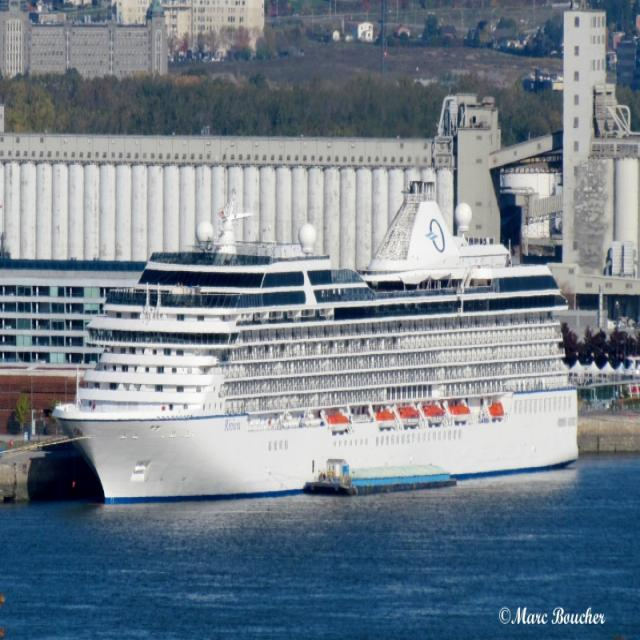cruises: (50, 180, 587, 513)
